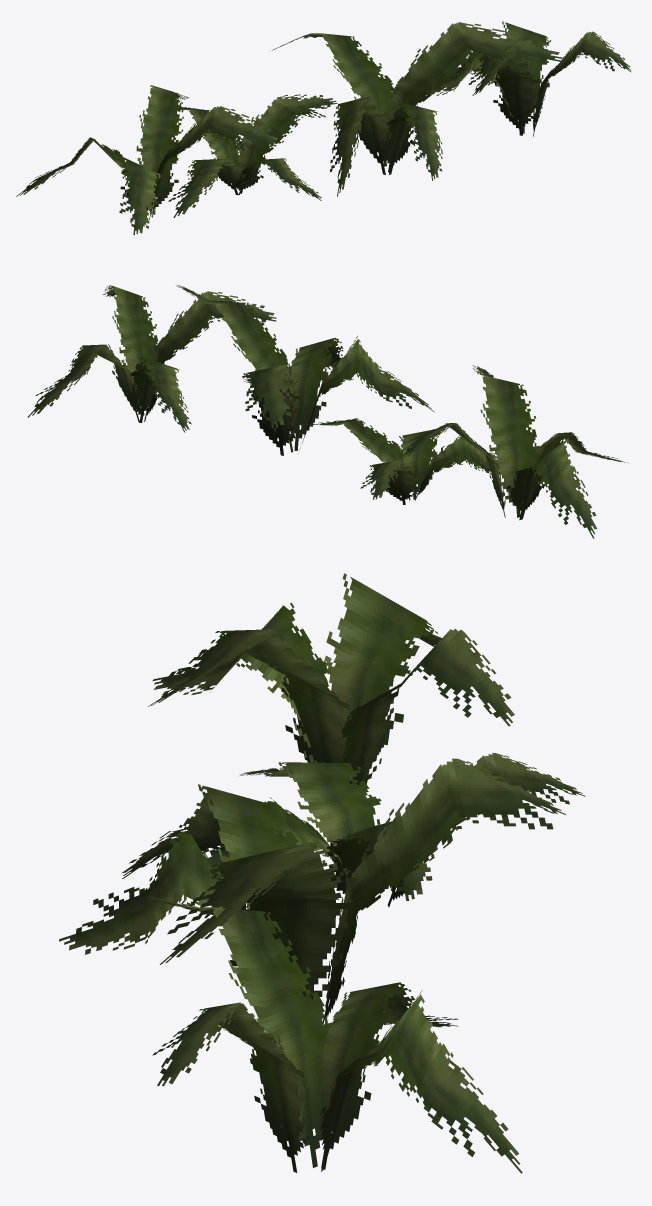
File: Grass06.glb
The picture shows the model from 3 angles, top to bottom: view 1: azimuth 30°, elevation 25°; view 2: azimuth 150°, elevation 25°; view 3: azimuth 270°, elevation 25°; orthographic projection. The views are drawn at different scales.
Visible parts, largest first — view 1: Grass06; view 2: Grass06; view 3: Grass06.
Part boxes in pixels (x1,y1,x2,y2): Grass06: [16, 21, 631, 234]; Grass06: [27, 284, 628, 538]; Grass06: [59, 573, 585, 1173].
Bounding box in the file's own units: 2.64 × 0.6063 × 1.1.
Materials: 1 (1 with a texture image).
